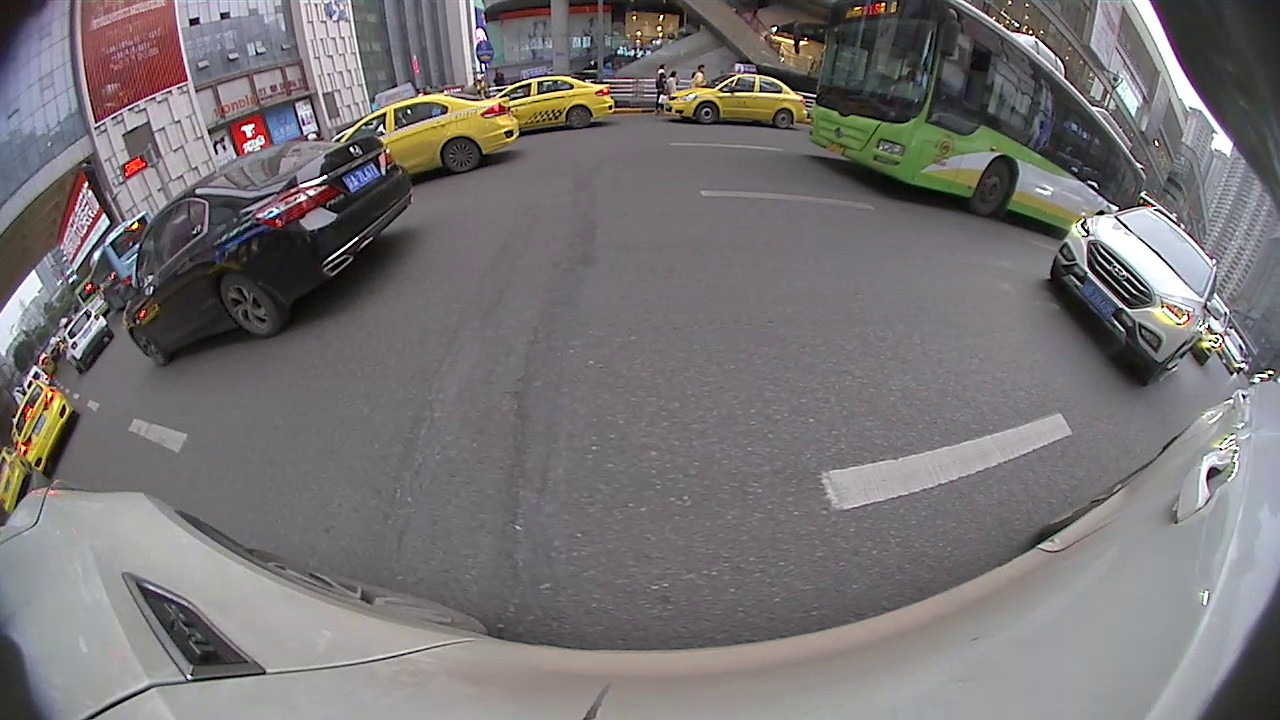bus: (808, 2, 1150, 236)
car: (123, 131, 413, 371), (1044, 200, 1217, 384), (337, 96, 521, 191), (654, 60, 807, 132), (481, 72, 618, 138), (9, 384, 76, 478), (59, 302, 111, 372), (1216, 333, 1248, 378)
front: (972, 158, 1012, 217), (132, 329, 167, 369), (694, 101, 718, 125)
rear: (217, 270, 283, 341), (442, 137, 480, 174), (567, 106, 592, 129), (773, 106, 795, 130)
